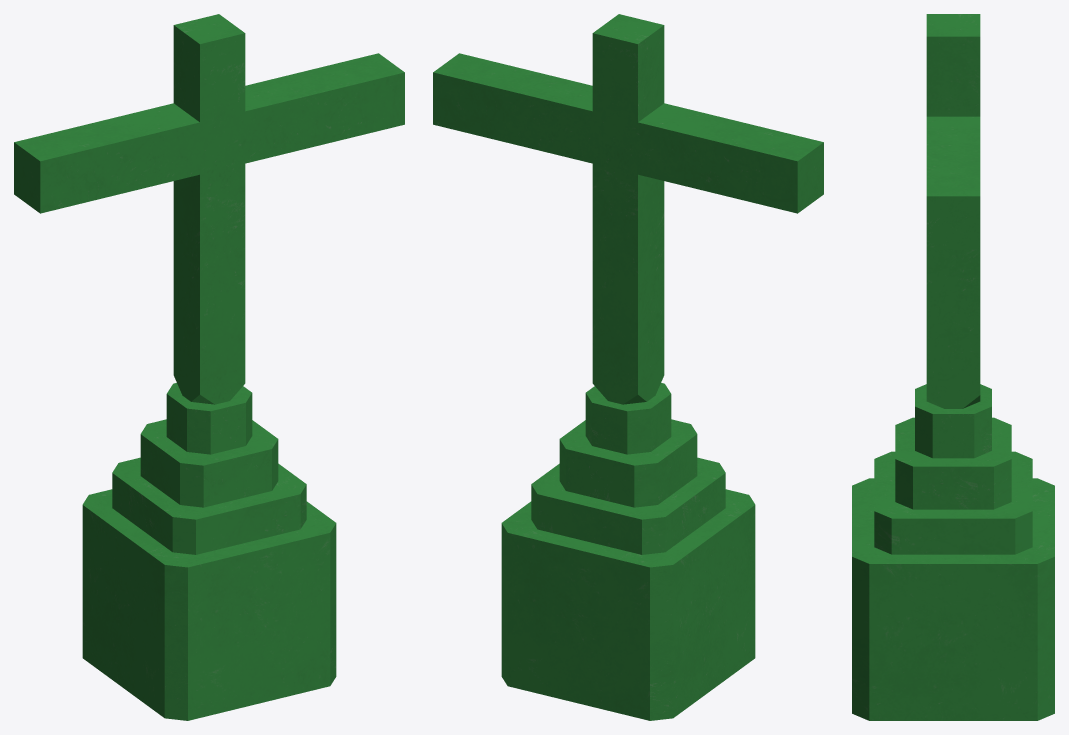
File: Cross1.fbx
The picture shows the model from 3 angles, left to right: view 1: azimuth 30°, elevation 25°; view 2: azimuth 150°, elevation 25°; view 3: azimuth 270°, elevation 25°; orthographic projection. The views are drawn at different scales.
Visible parts, largest first — view 1: Cross1; view 2: Cross1; view 3: Cross1.
Boxes of the visible parts, x1,y1,x2,y2 form: Cross1: (14,14,404,720); Cross1: (433,14,823,720); Cross1: (852,14,1054,720).
Bounding box in the file's own units: 68.77 × 115 × 32.39.
